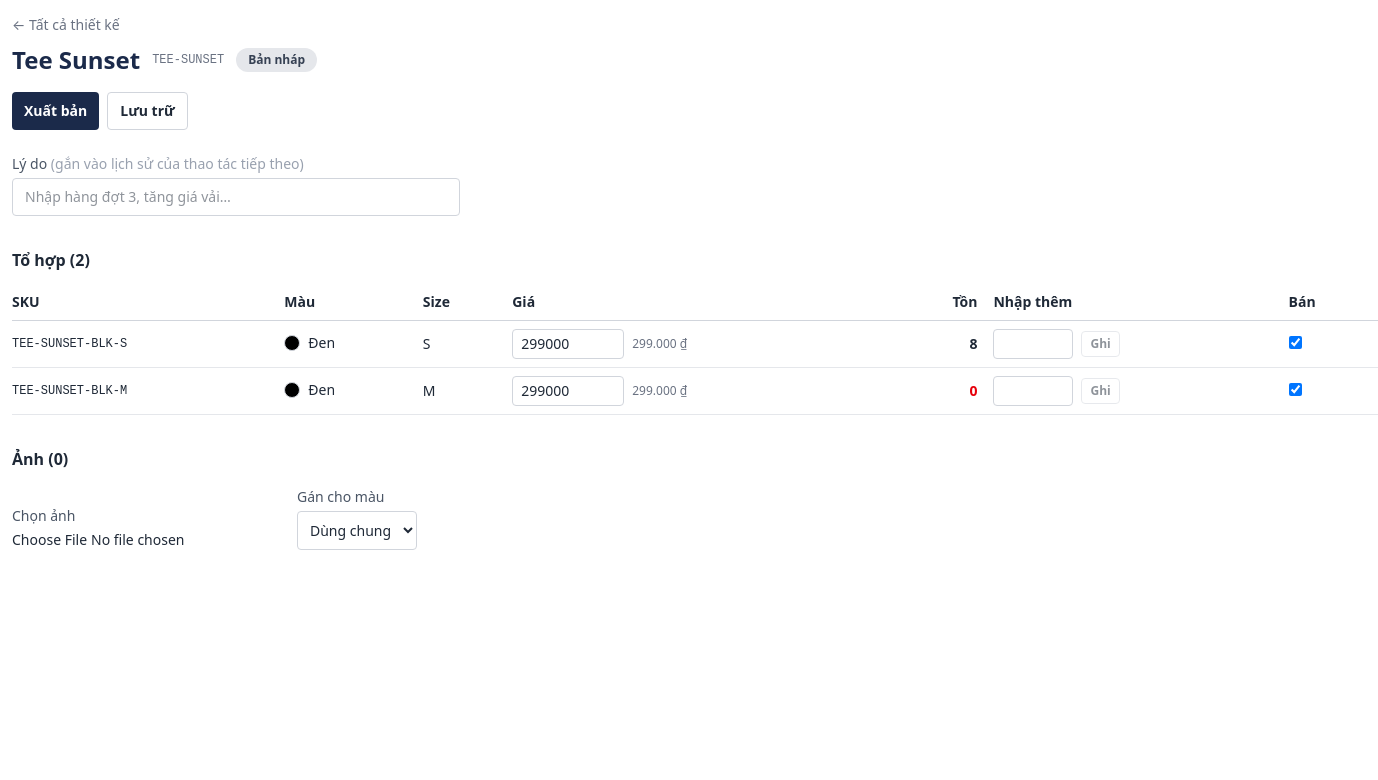
Test: AdminProductDetailPage › máy chủ từ chối thao tác thì hiện thông báo của máy chủ
Type "-9999" into the number field named "Lượng nhập thêm cho TEE-SUNSET-BLK-S" at (1034, 344), box [994,329,1074,359]
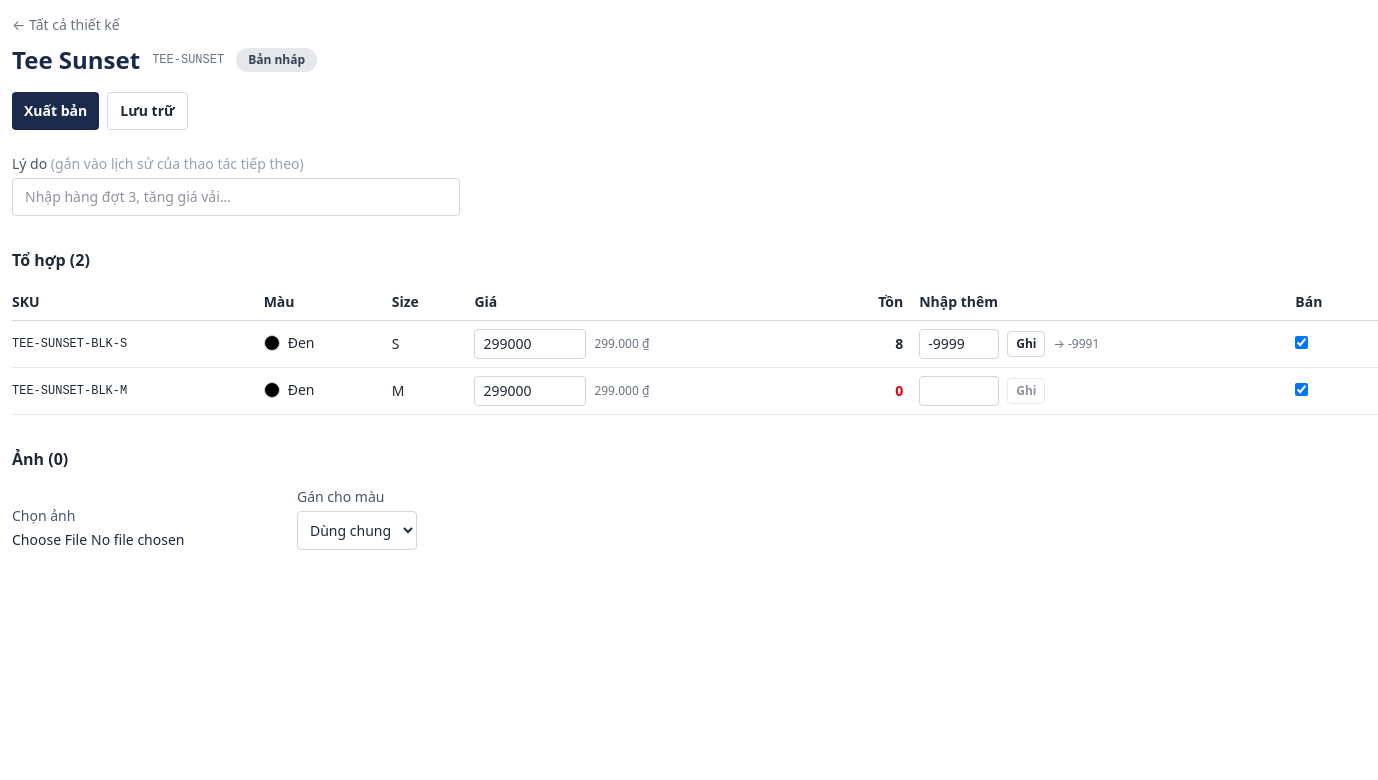
Click the button "Ghi" next to "→ -9991" at (1026, 344), box [1007,331,1045,357]
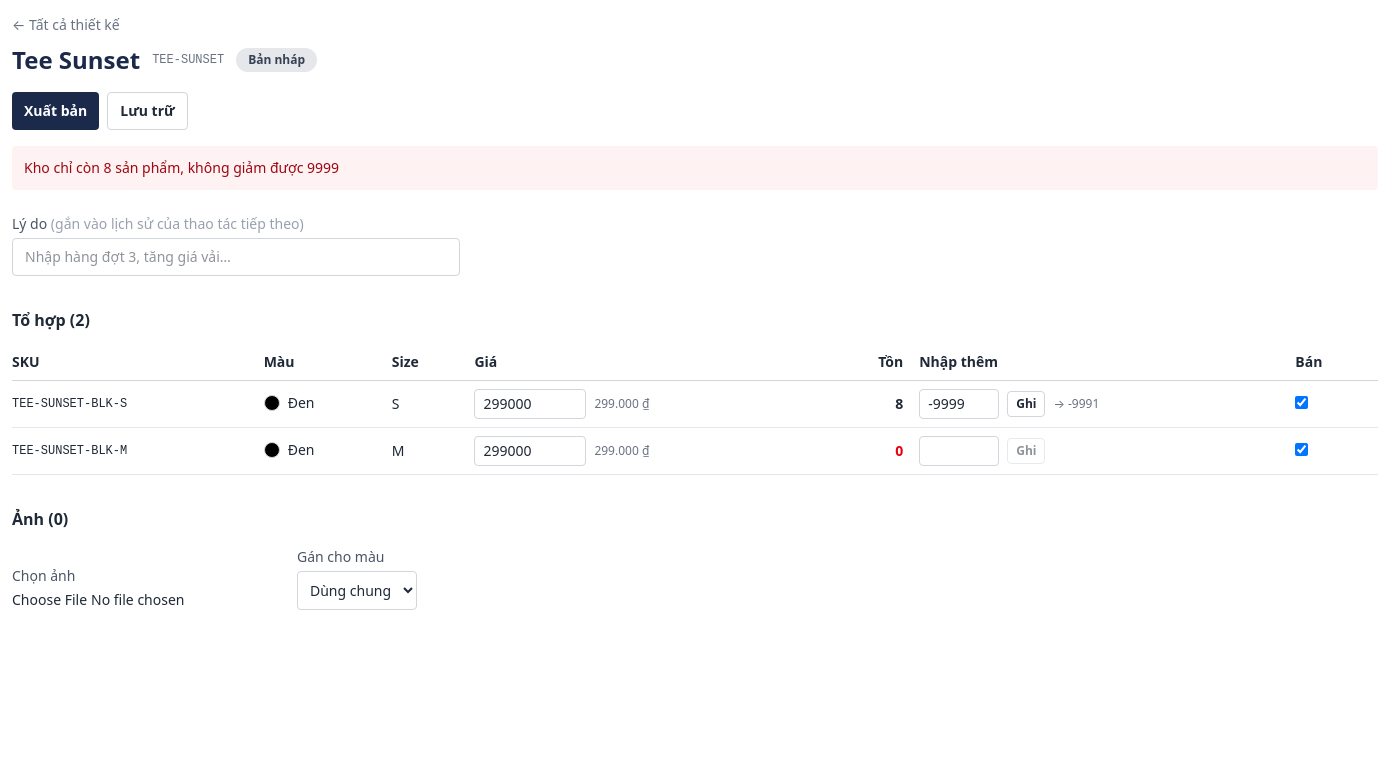
Expected: the message "Kho chỉ còn 8 sản phẩm, không giảm được 9999" is shown, [12,146,1377,190]
